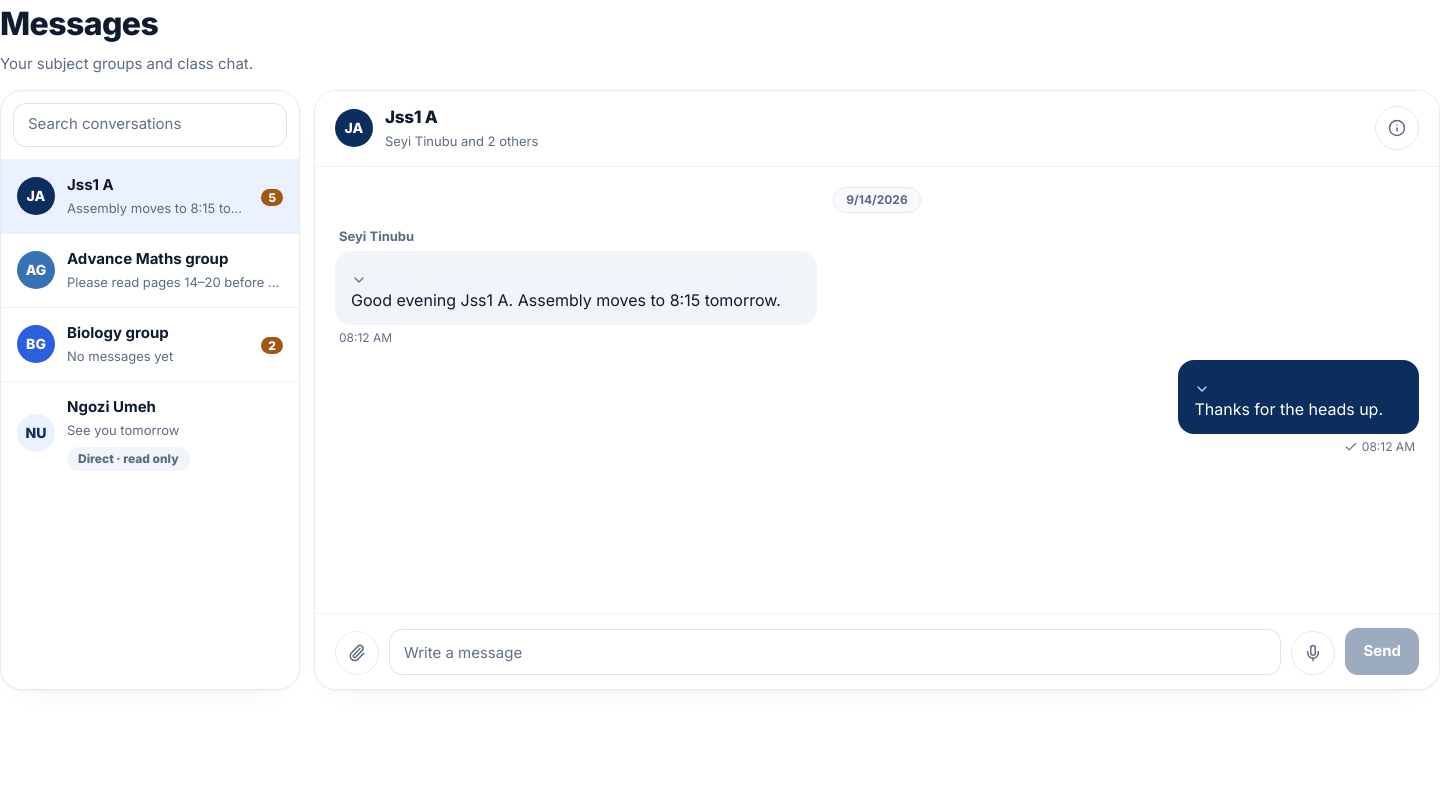
Test: Messages screen › lists members and asks for videos with kind=video in group info
The width and height of the screenshot is (1440, 810).
Click the button named "Group info" at (1397, 128), box [1375, 106, 1419, 150]
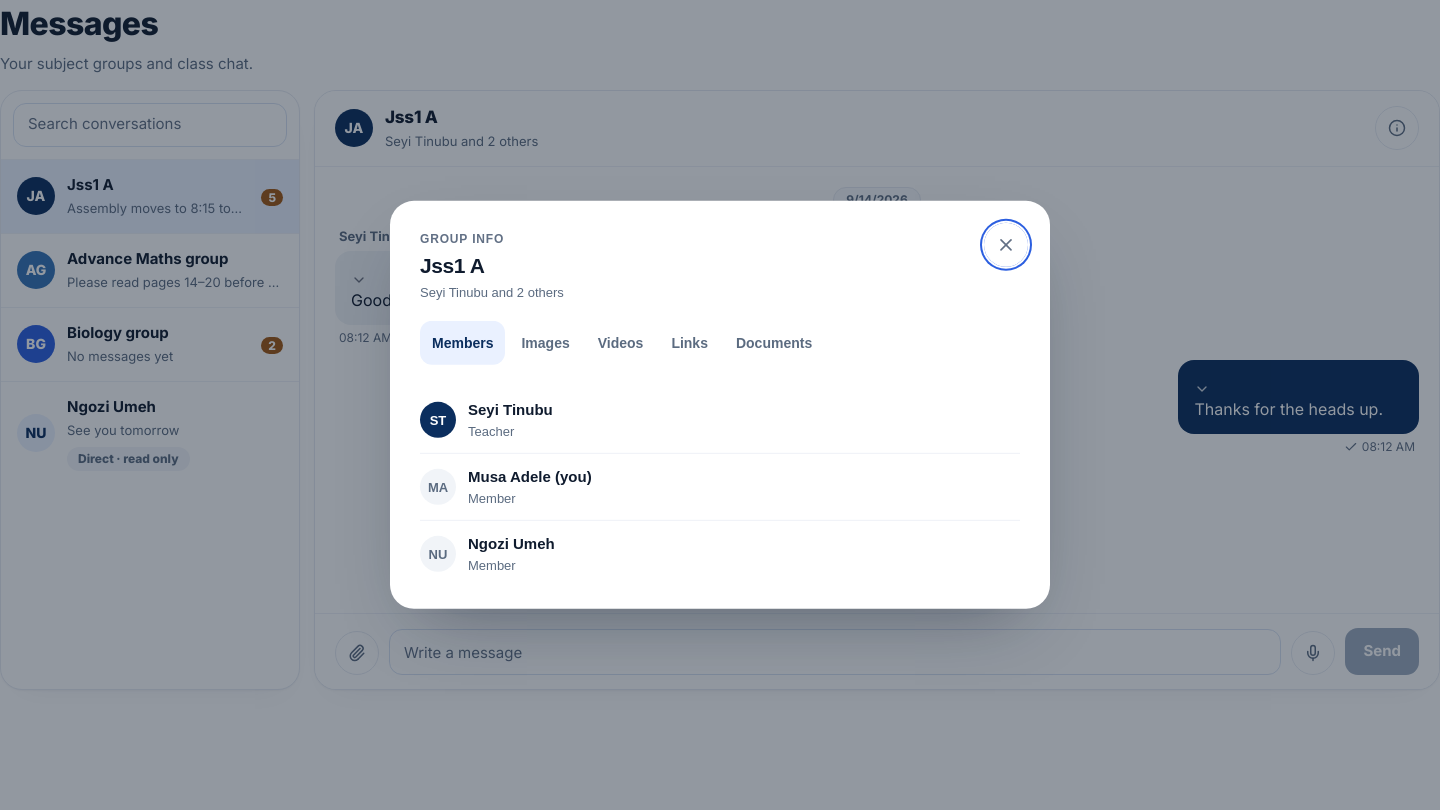
Now the tabs read "Members", "Images", "Videos", "Links", "Documents", in this order
Click the tab "Videos" at (621, 343), box [586, 321, 655, 365]
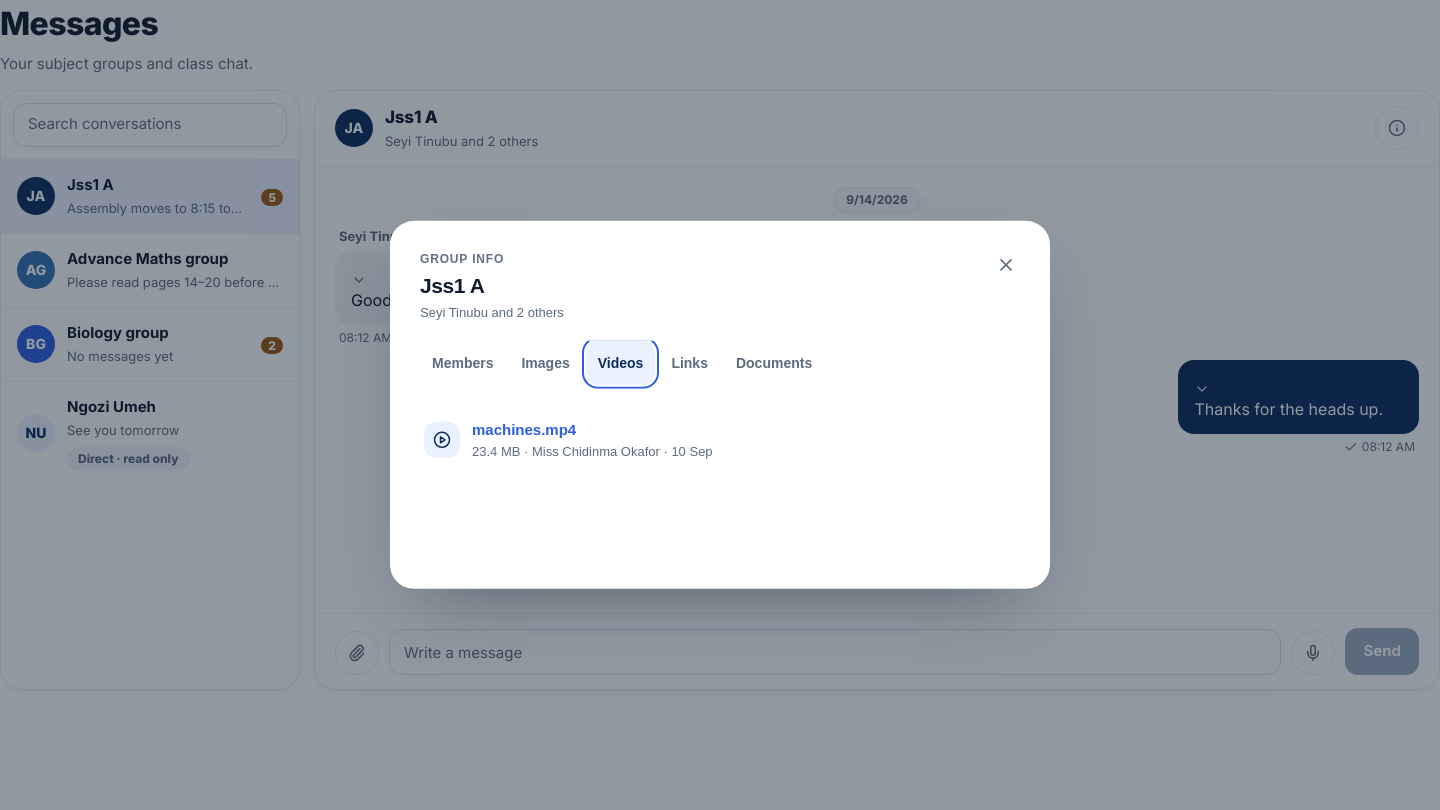
Press Arrowleft
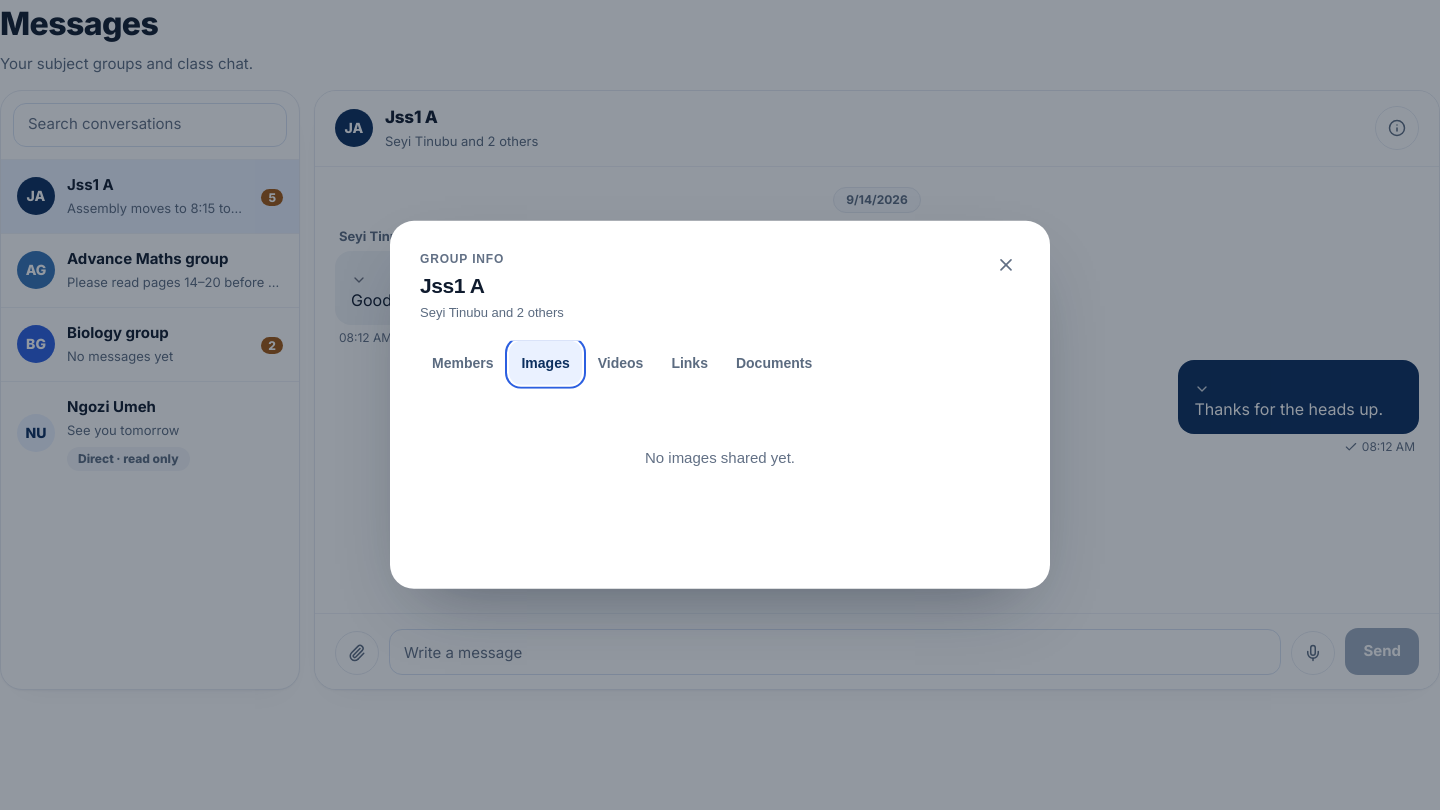
Now the text "No images shared yet." is shown, box [645, 449, 795, 466]
